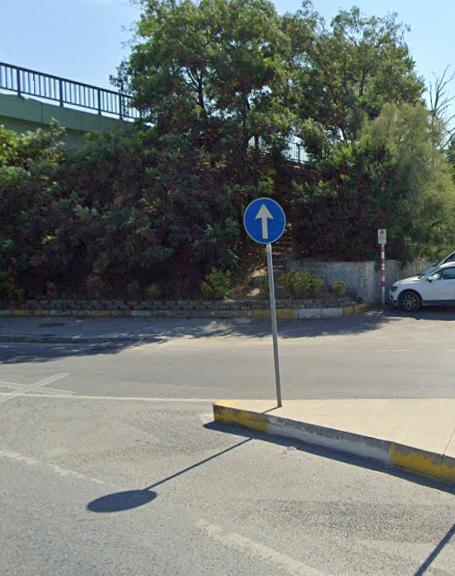forward: (244, 198, 287, 247)
